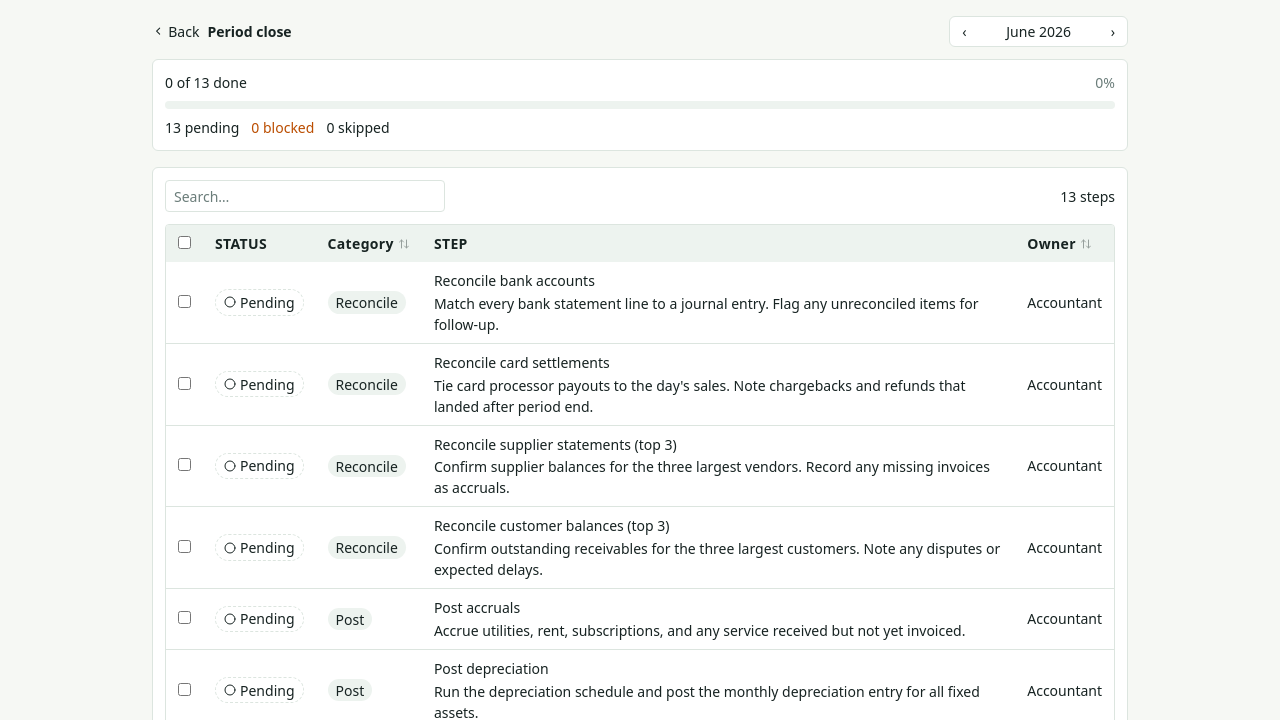
Test: period-close — UndoToast › Mark done shows the toast, and Undo reverts the local state
Note: Select + Mark done a single row
Click the checkbox with test id "data-table-row-select-reconcile-bank": {"x": 184, "y": 301} [178, 295, 191, 308]
(page scrolled)
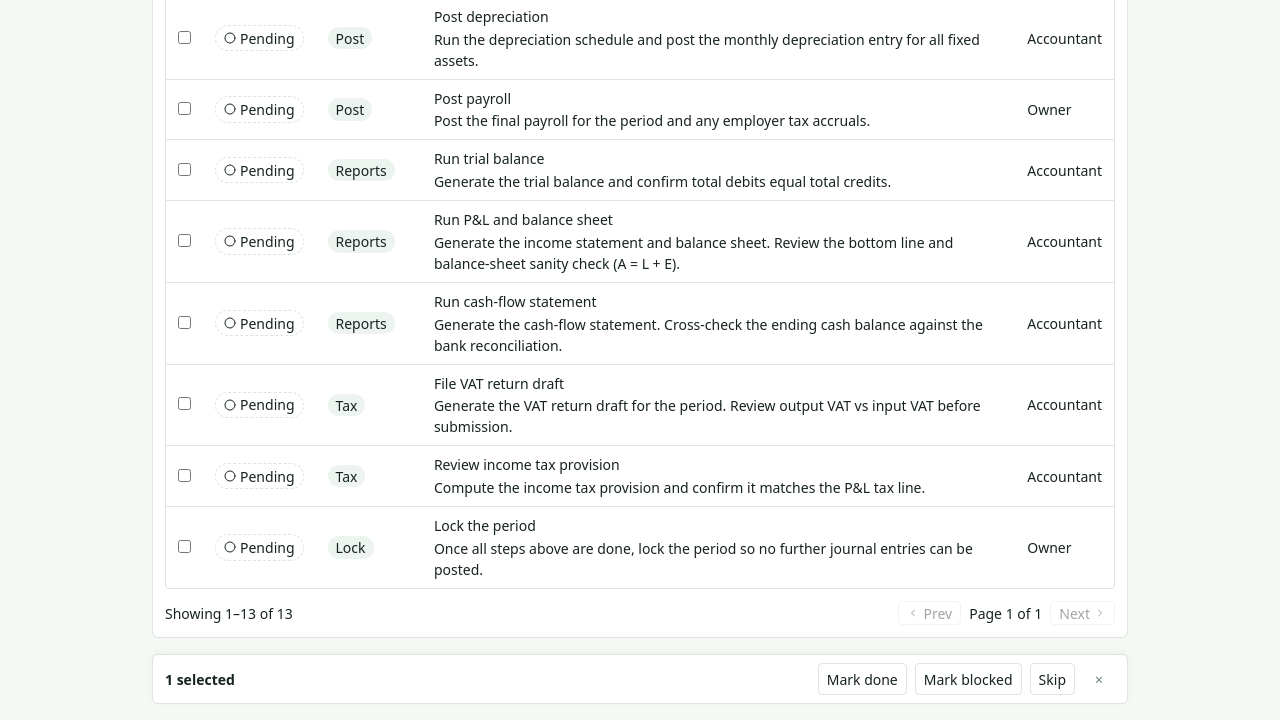
Click the button with test id "bulk-action-mark-done": {"x": 862, "y": 679} [818, 663, 907, 695]
(page scrolled)
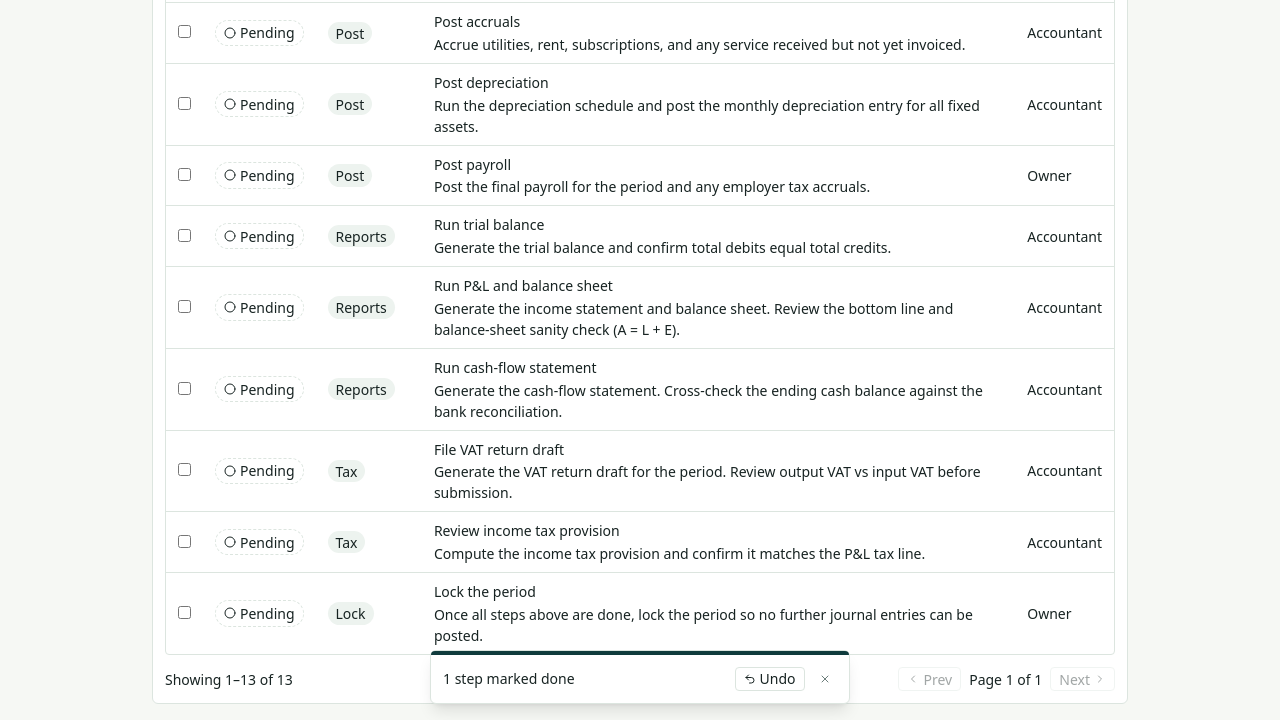
Result: the message "1 step marked done Undo" is shown at [430, 650, 850, 704]
Result: the message with test id "undo-toast" shows "marked done" at [483, 669, 574, 688]
Note: Click Undo
Click the button with test id "undo-toast-action": {"x": 770, "y": 679} [734, 666, 804, 691]
(page scrolled)
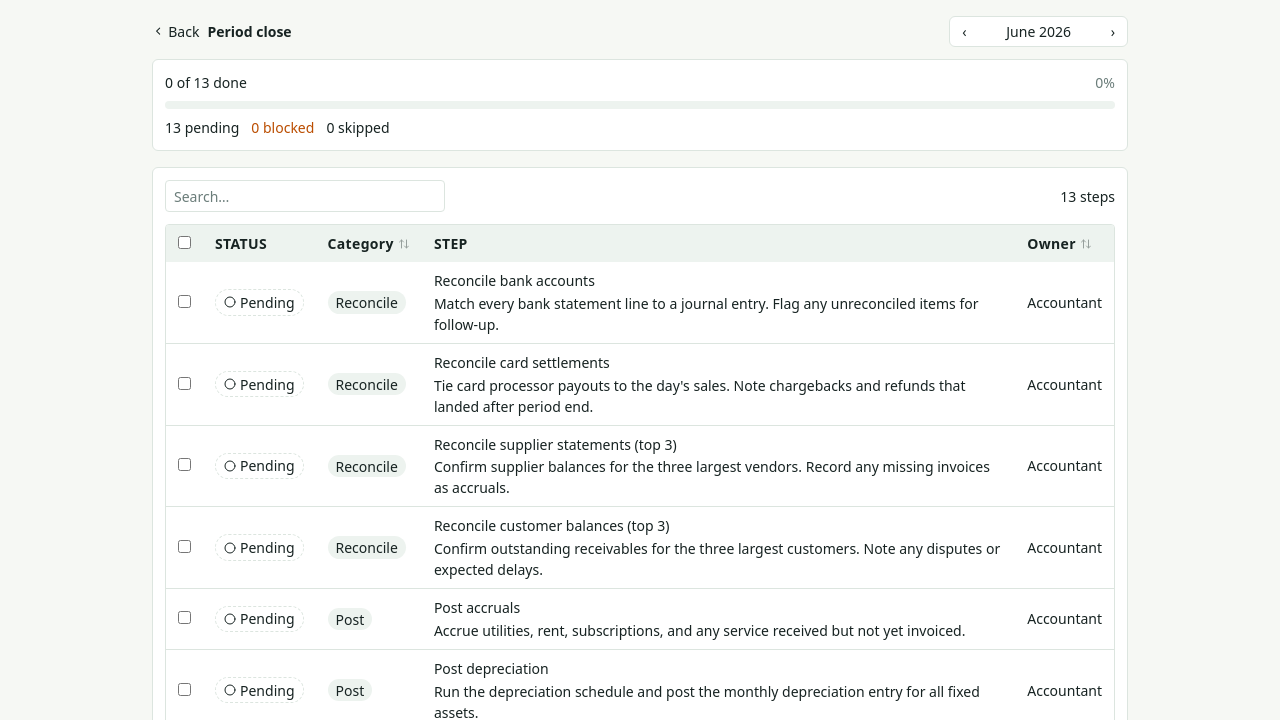
Result: the message with test id "undo-toast" is gone
